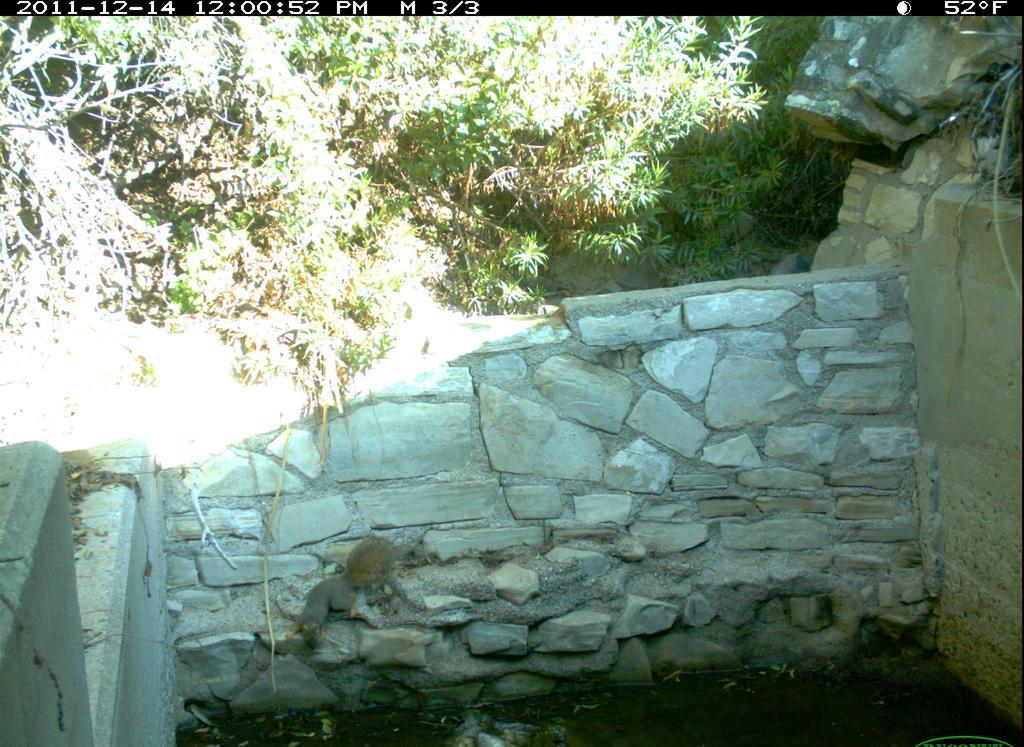squirrel: (285, 537, 409, 655)
